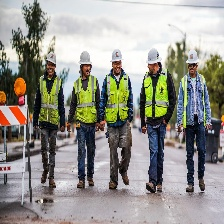helmet: (145, 51, 163, 71), (76, 51, 93, 71), (44, 51, 60, 70), (110, 50, 125, 68), (186, 51, 200, 69)
no-vest: (182, 75, 206, 135)
person: (177, 47, 212, 193), (100, 47, 135, 190), (68, 49, 102, 192), (32, 50, 65, 189), (139, 50, 171, 193)
vest: (143, 73, 172, 124), (39, 73, 61, 131), (106, 68, 128, 124), (74, 73, 98, 123)
